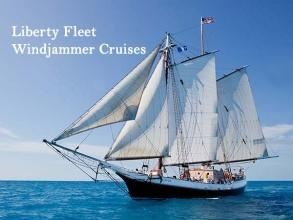fanchuan: (42, 15, 278, 199)
